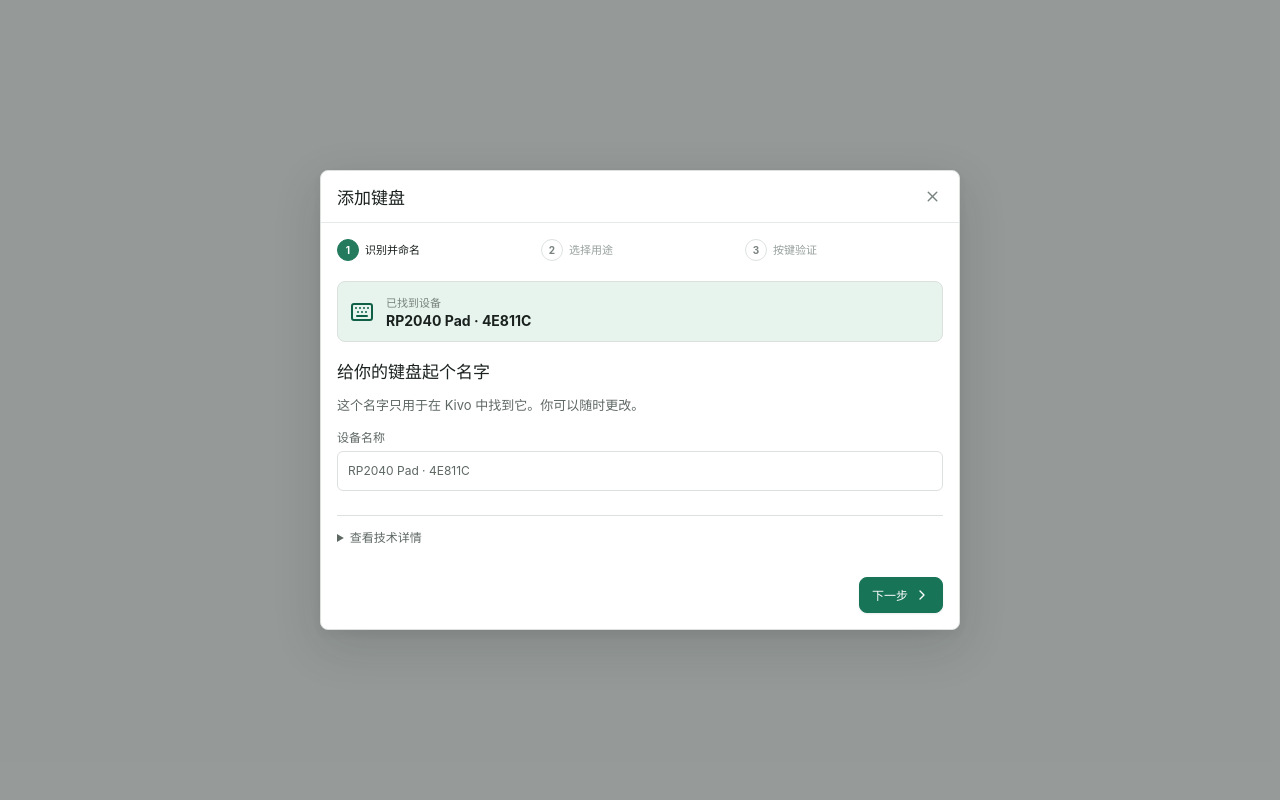
Test: preserves the device name after setup failure
Replace the text in the field labelled "设备名称" with "保留名称": x=640, y=471 [337,451,943,491]
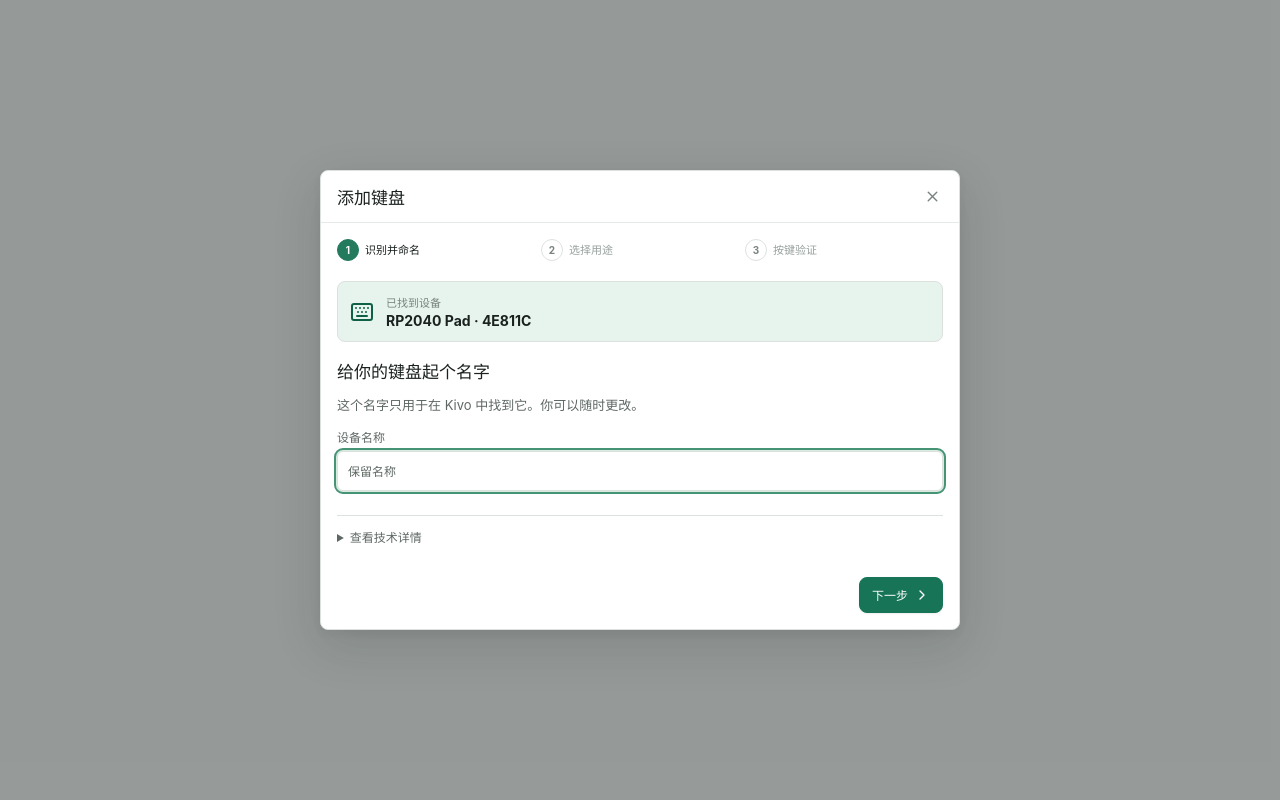
Click the button "下一步": x=901, y=595 [859,577,943,613]
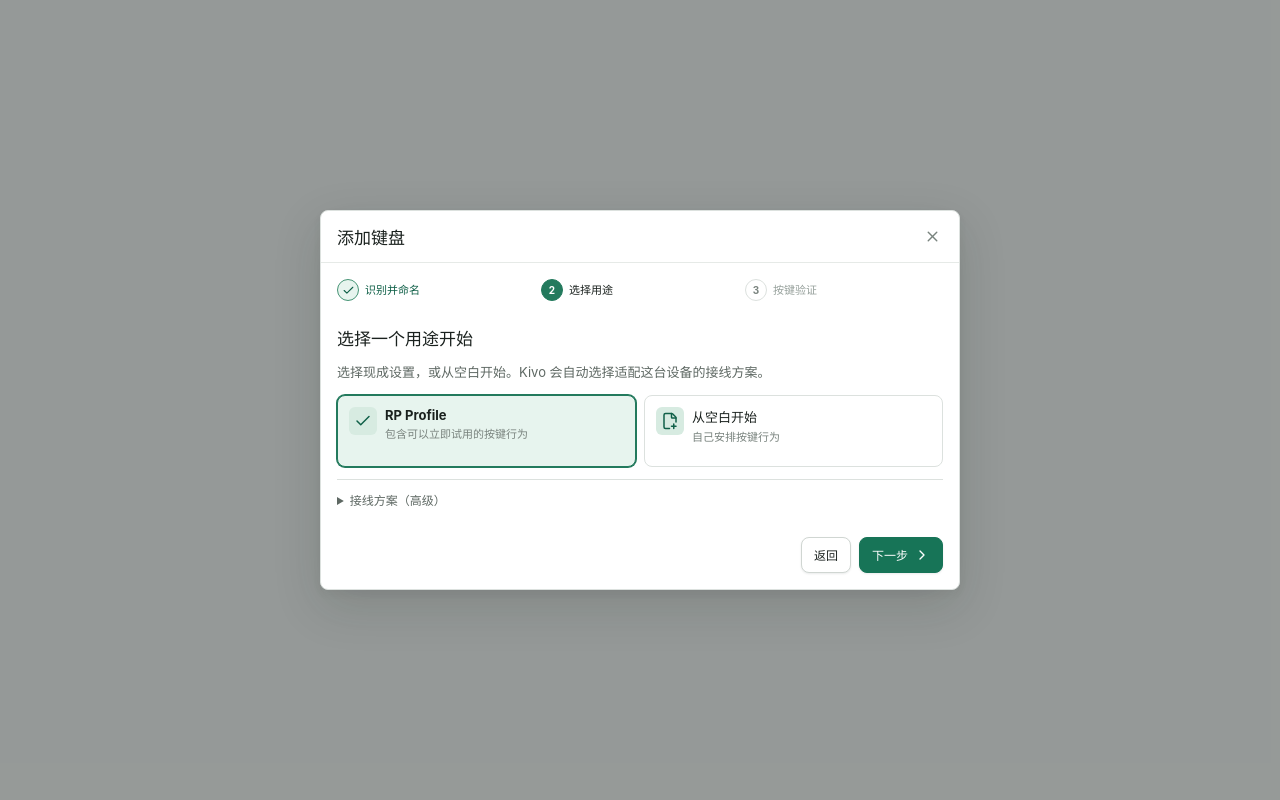
Click the button "下一步": x=901, y=555 [859,537,943,573]
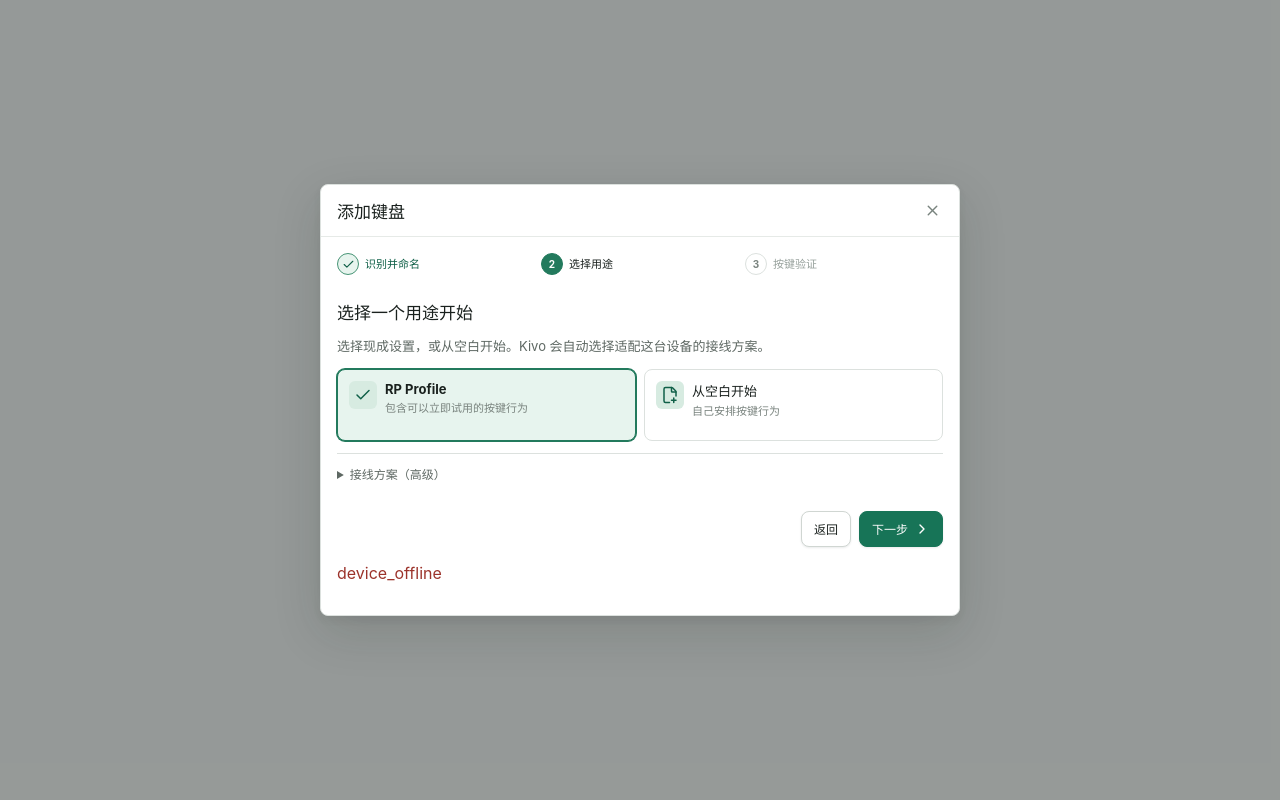
Now the message reads "device_offline", box [337,563,442,583]
Click the button "返回": x=826, y=529 [801,511,851,547]
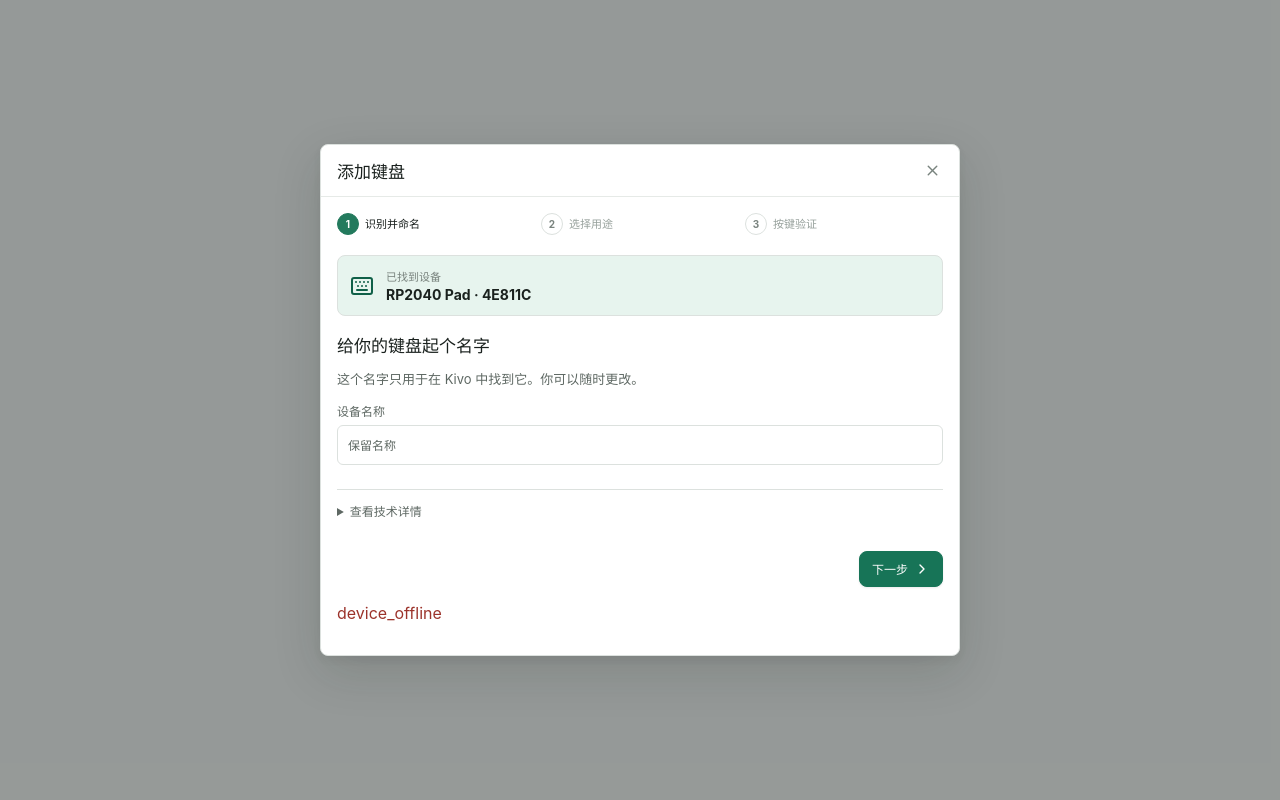
Now the field labelled "设备名称" holds "保留名称", box [337,425,943,465]
